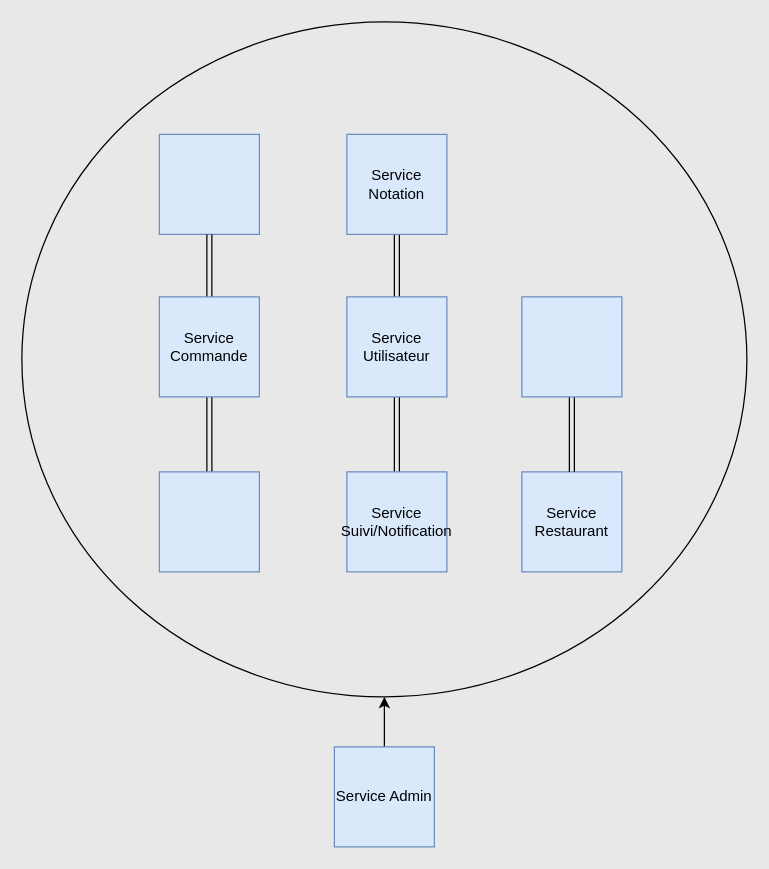
This 769x869 diagram has some shape labels left out. Each missing label, with the centre of its shape:
"Service Livraison" goes at (x=208, y=521).
"Service Menu" goes at (x=571, y=346).
"Service Paiement" goes at (x=208, y=183).
